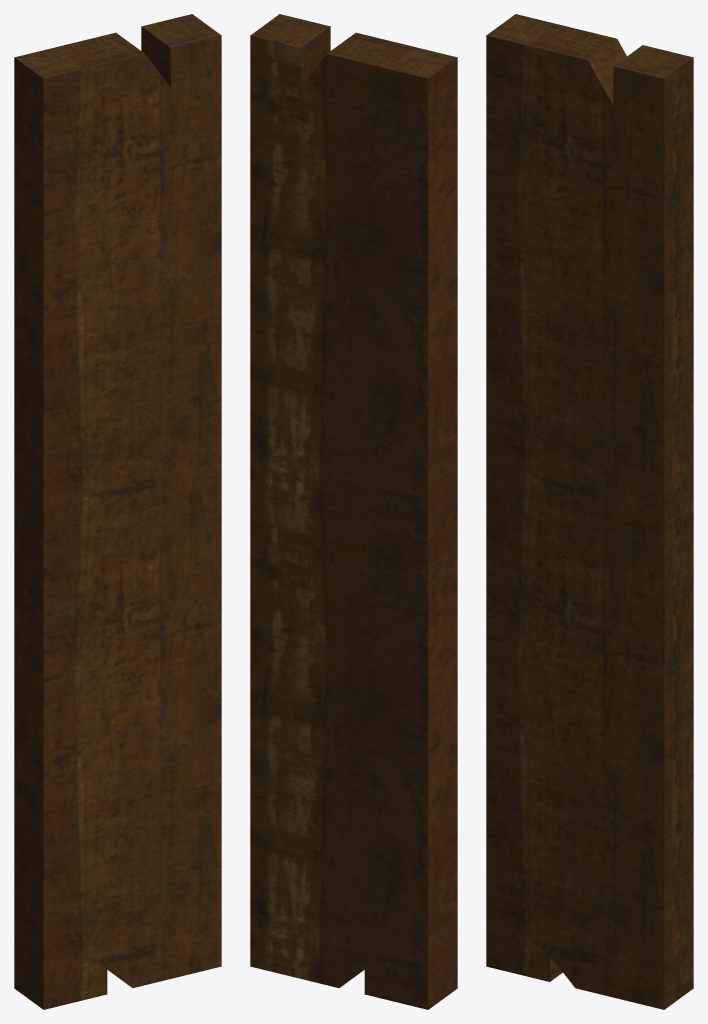
Rendered from WoodPlank.fbx.
The picture shows the model from 3 angles, left to right: view 1: azimuth 30°, elevation 25°; view 2: azimuth 150°, elevation 25°; view 3: azimuth 330°, elevation 25°; orthographic projection.
Parts seen in each view (by area): view 1: WoodPlank; view 2: WoodPlank; view 3: WoodPlank.
Boxes of the visible parts, x1,y1,x2,y2 form: WoodPlank: [14, 14, 221, 1009]; WoodPlank: [250, 14, 457, 1009]; WoodPlank: [486, 14, 693, 1009].
Bounding box in the file's own units: 14 × 70 × 4.
1 material, 1 textured.
